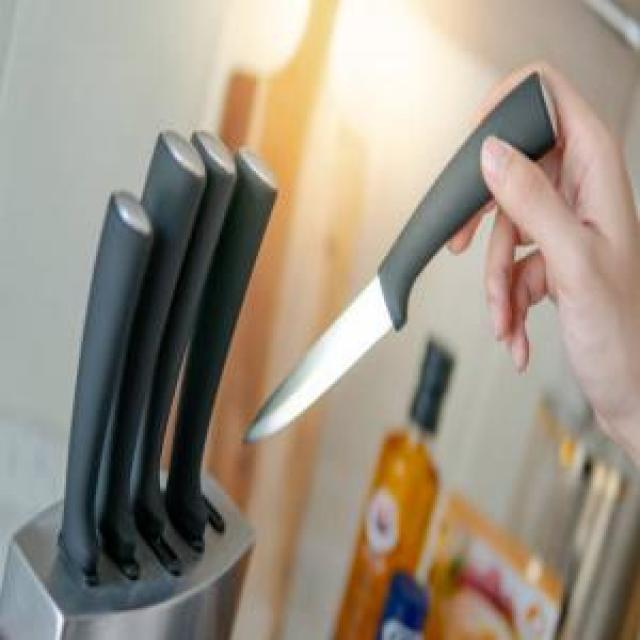knife: (243, 70, 568, 462)
